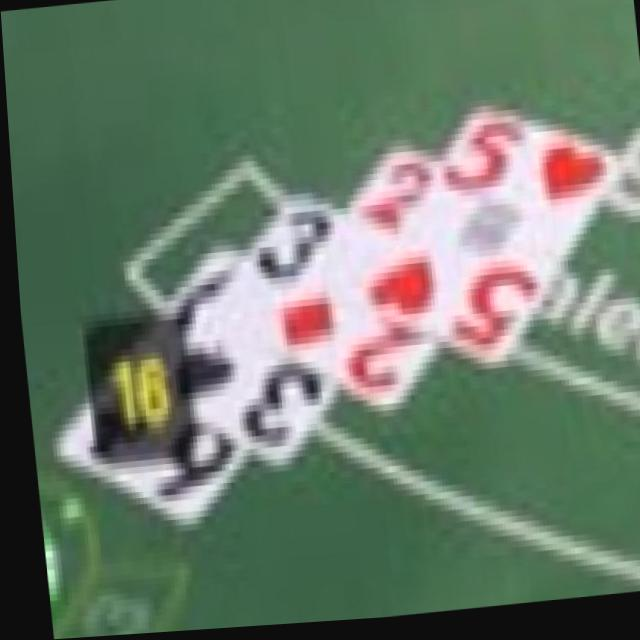Card-2: (271, 148, 441, 419)
Card-3: (166, 196, 341, 471)
Card-5: (364, 106, 623, 374)
Card-6: (46, 245, 243, 532)
